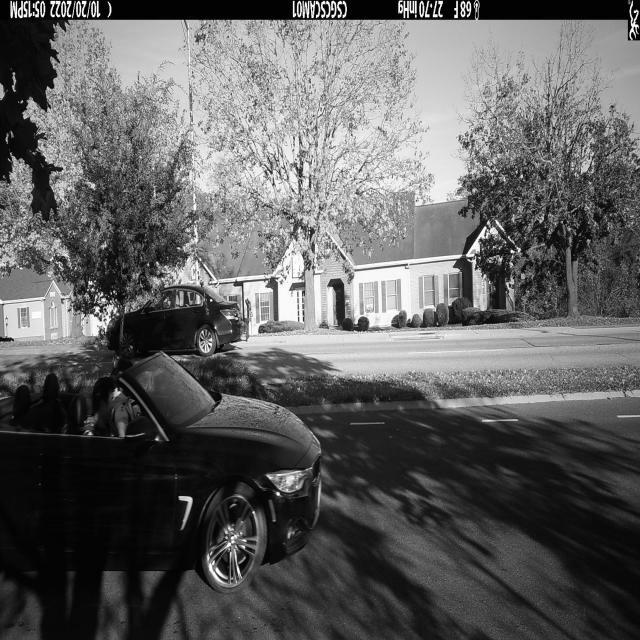Sedan: (0, 350, 322, 592), (106, 284, 245, 358)
